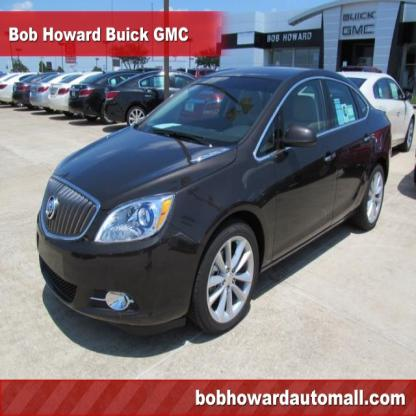Vehicle: (35, 66, 392, 334)
